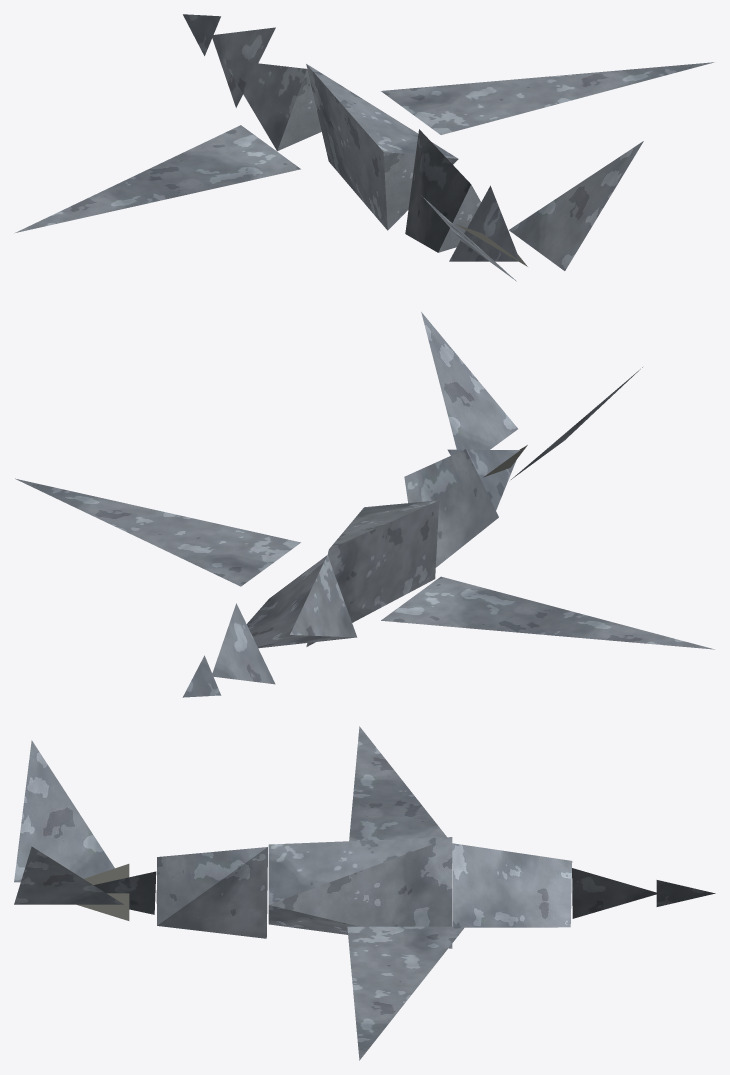
The model's file is uav_e7_us_loiter_LOD2.glb.
3 renders of one model, top to bottom at view 1: azimuth 30°, elevation 25°; view 2: azimuth 150°, elevation 25°; view 3: azimuth 270°, elevation 25°, orthographic. The views are drawn at different scales.
Parts seen in each view (by area): view 1: uav_e7_us_loiter_LOD2_body; view 2: uav_e7_us_loiter_LOD2_body; view 3: uav_e7_us_loiter_LOD2_body, uav_e7_us_loiter_LOD2_gun.
Part boxes in pixels (x1=…): uav_e7_us_loiter_LOD2_body: x1=14, y1=14, x2=713, y2=281; uav_e7_us_loiter_LOD2_body: x1=15, y1=312, x2=714, y2=697; uav_e7_us_loiter_LOD2_body: x1=14, y1=726, x2=715, y2=1060; uav_e7_us_loiter_LOD2_gun: x1=77, y1=864, x2=129, y2=920.
Bounding box in the file's own units: 3.02 × 0.6323 × 2.67.
Materials: 2 (1 with a texture image).
